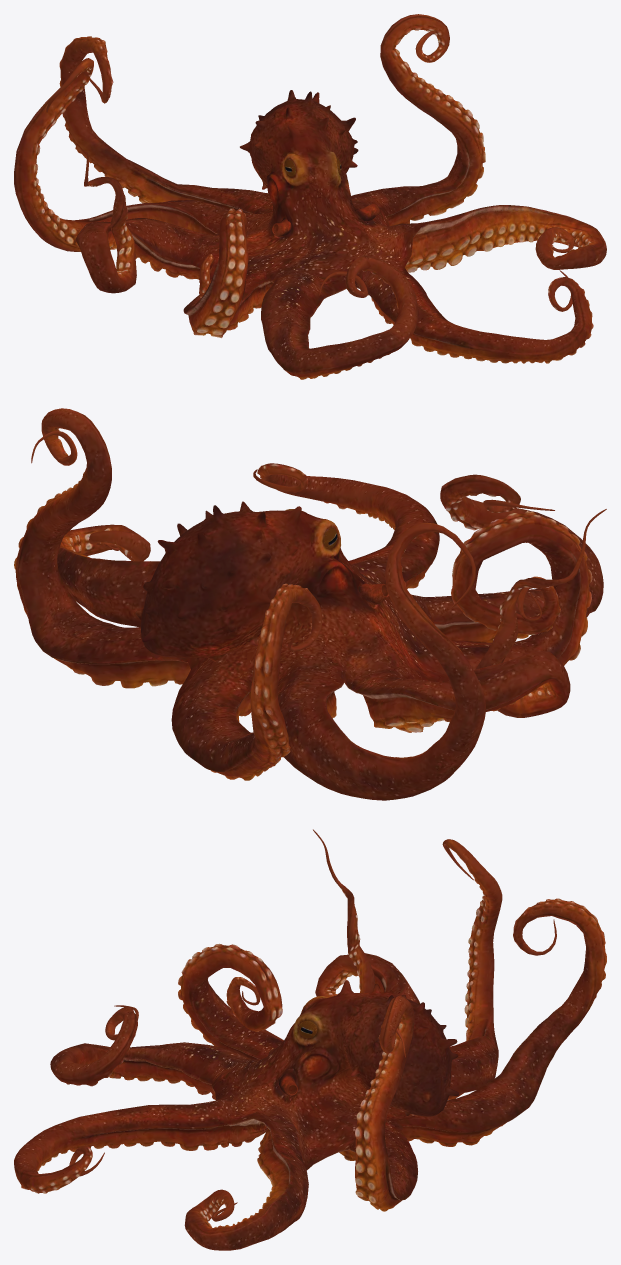
File: octopus.glb
The picture shows the model from 3 angles, top to bottom: view 1: azimuth 30°, elevation 25°; view 2: azimuth 150°, elevation 25°; view 3: azimuth 270°, elevation 25°; orthographic projection. The views are drawn at different scales.
Visible parts, largest first — view 1: octopus.1; view 2: octopus.1; view 3: octopus.1.
Boxes of the visible parts, x1,y1,x2,y2 form: octopus.1: (14,14,606,379); octopus.1: (14,408,606,800); octopus.1: (14,829,606,1250).
Bounding box in the file's own units: 0.0778 × 0.0334 × 0.0828.
1 material, 1 textured.
